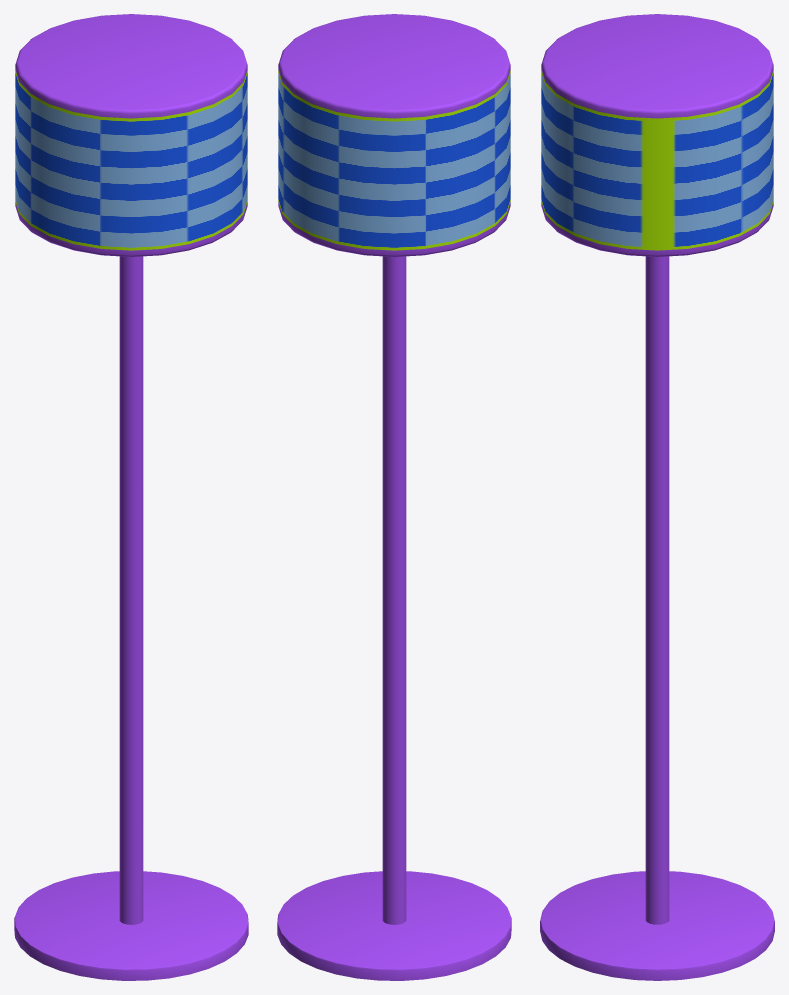
File: LightFloor02_3.FBX
The picture shows the model from 3 angles, left to right: view 1: azimuth 30°, elevation 25°; view 2: azimuth 150°, elevation 25°; view 3: azimuth 270°, elevation 25°; orthographic projection.
Parts seen in each view (by area): view 1: LightFloor02_3; view 2: LightFloor02_3; view 3: LightFloor02_3.
Boxes of the visible parts, x1,y1,x2,y2 form: LightFloor02_3: [14, 14, 248, 980]; LightFloor02_3: [277, 14, 511, 980]; LightFloor02_3: [540, 14, 774, 980].
Bounding box in the file's own units: 36.65 × 150 × 36.65.
